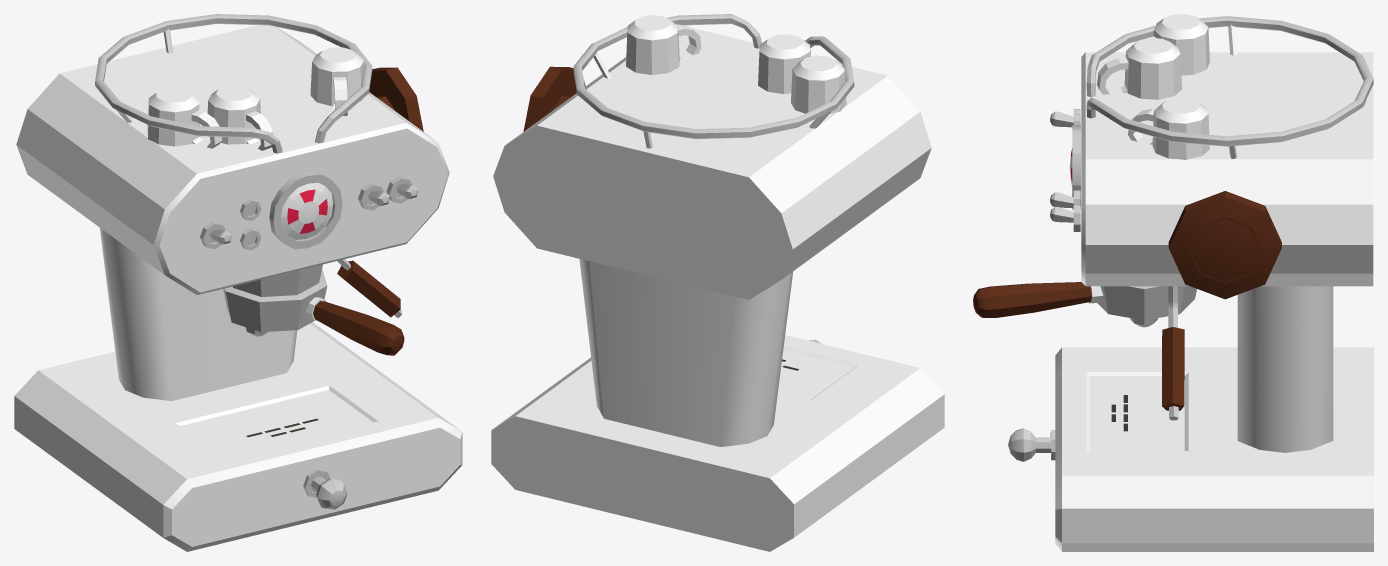
Rendered from PW_espressomachine.fbx.
3 views of the same model, side by side, from view 1: azimuth 30°, elevation 25°; view 2: azimuth 150°, elevation 25°; view 3: azimuth 270°, elevation 25° (orthographic). The views are drawn at different scales.
Parts seen in each view (by area): view 1: espressomachine, metal; view 2: espressomachine, metal; view 3: espressomachine, metal.
Boxes of the visible parts, left/top/right/bottom form: espressomachine: left=14, top=25, right=462, bottom=551; metal: left=95, top=14, right=417, bottom=509; espressomachine: left=491, top=15, right=944, bottom=551; metal: left=573, top=14, right=854, bottom=343; espressomachine: left=973, top=14, right=1373, bottom=551; metal: left=1008, top=16, right=1373, bottom=461.
Bounding box in the file's own units: 67.81 × 82.61 × 70.8.
2 materials, 2 textured.
